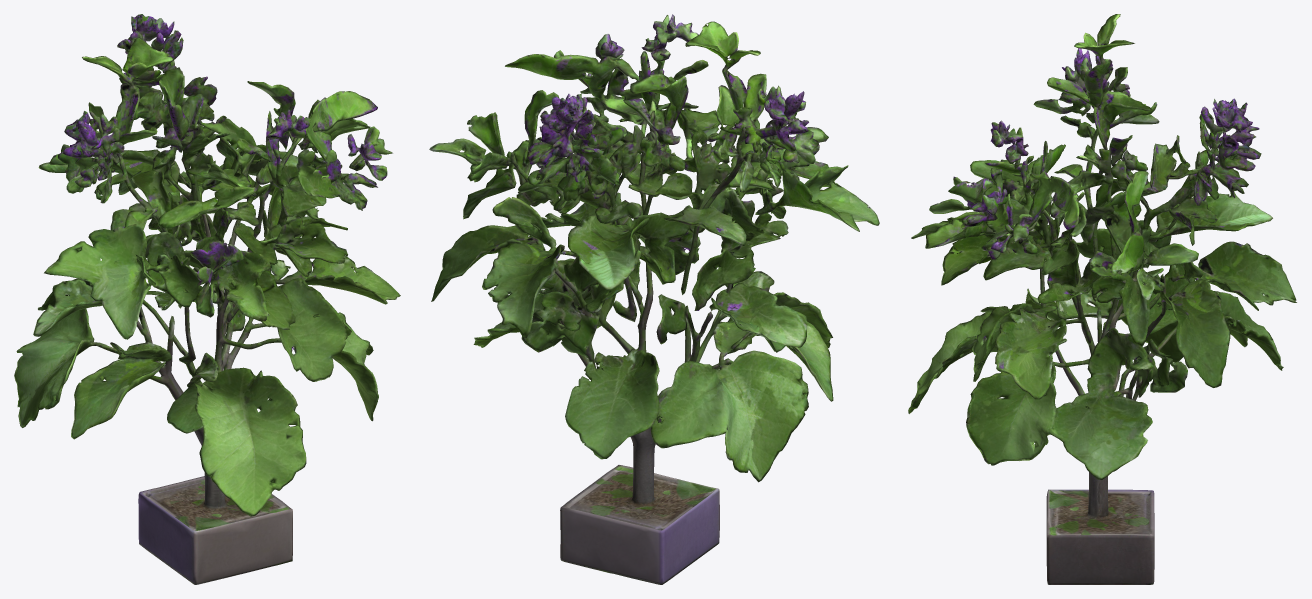
Rendered from tulsi.glb.
3 views of the same model, side by side, from view 1: azimuth 30°, elevation 25°; view 2: azimuth 150°, elevation 25°; view 3: azimuth 270°, elevation 25° (orthographic). The views are drawn at different scales.
Bounding box in the file's own units: 1.5 × 2 × 1.44.
1 material, 1 textured.
